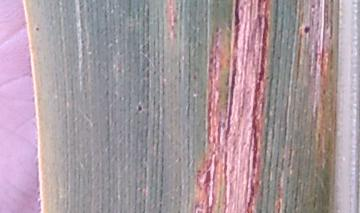tarspot: (303, 26, 311, 34), (136, 104, 142, 113), (34, 26, 39, 32)
